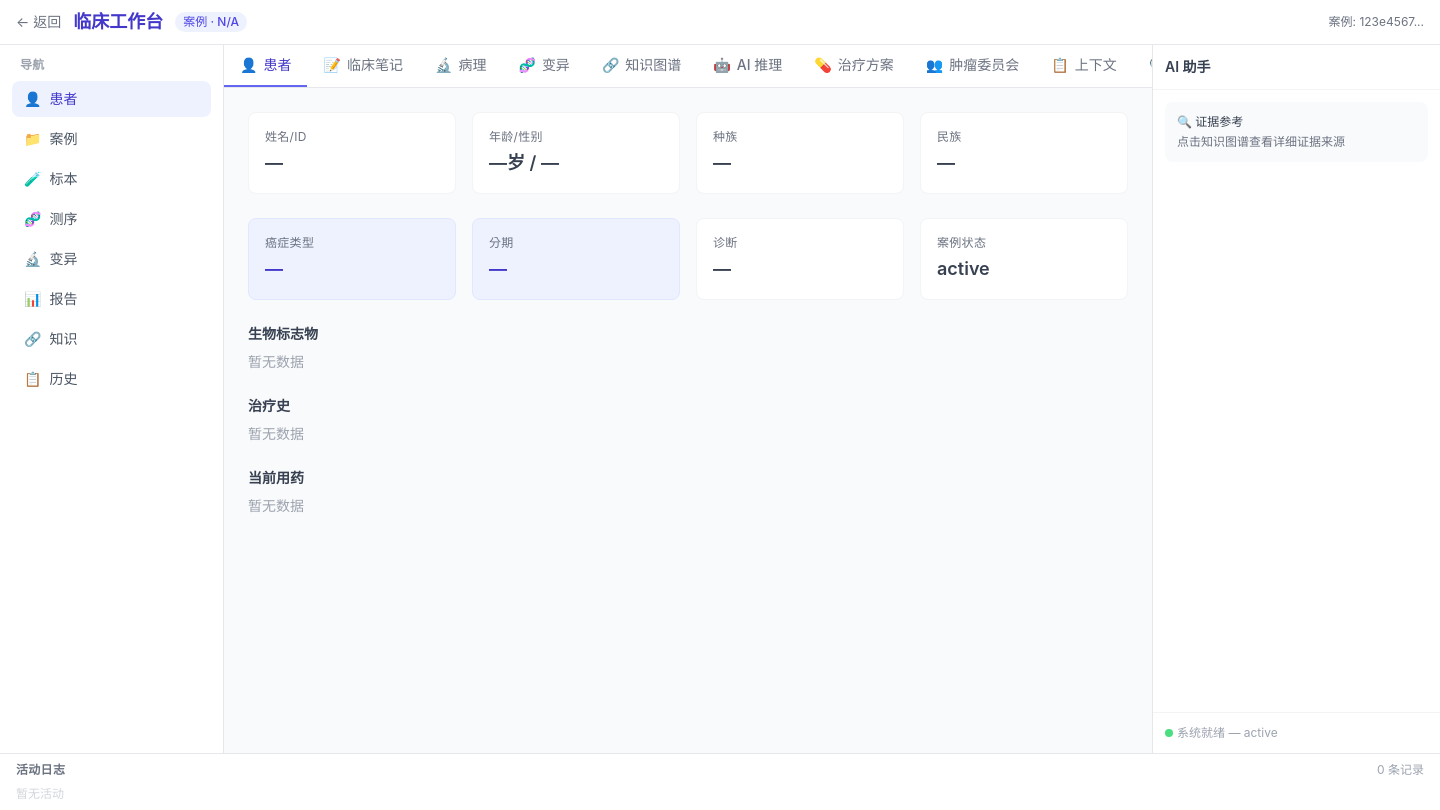
Workbench core states › shows empty state for tumor board
Click the button "👥肿瘤委员会".
click(973, 66)  # box x1=910 y1=45 x2=1035 y2=87
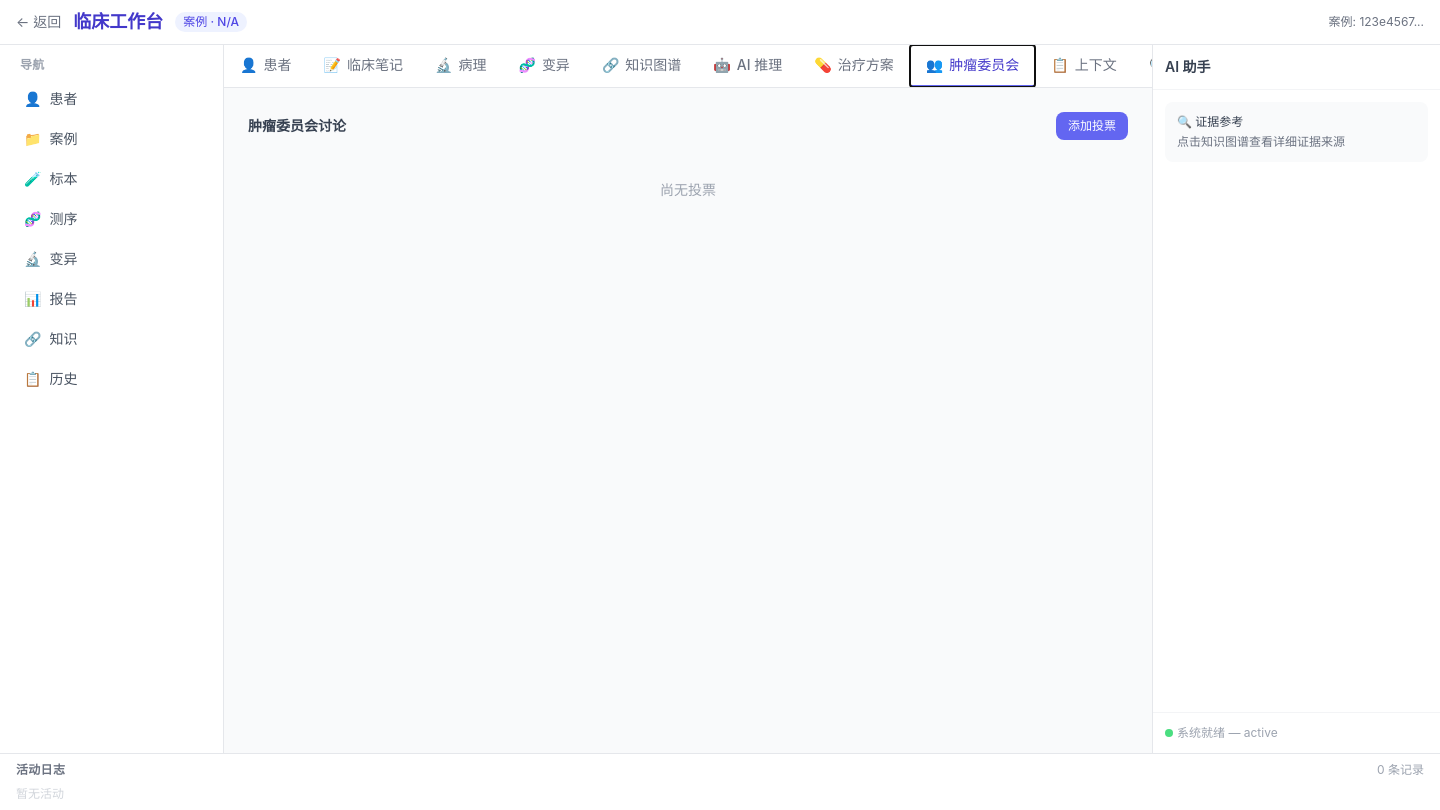
Expected: the text "尚无投票" is shown, x1=660 y1=181 x2=716 y2=198
